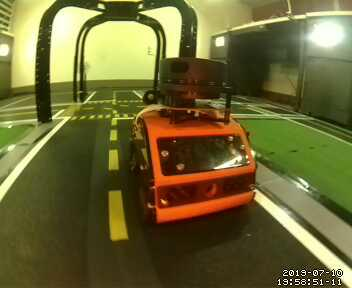pheeno: (131, 57, 258, 227)
